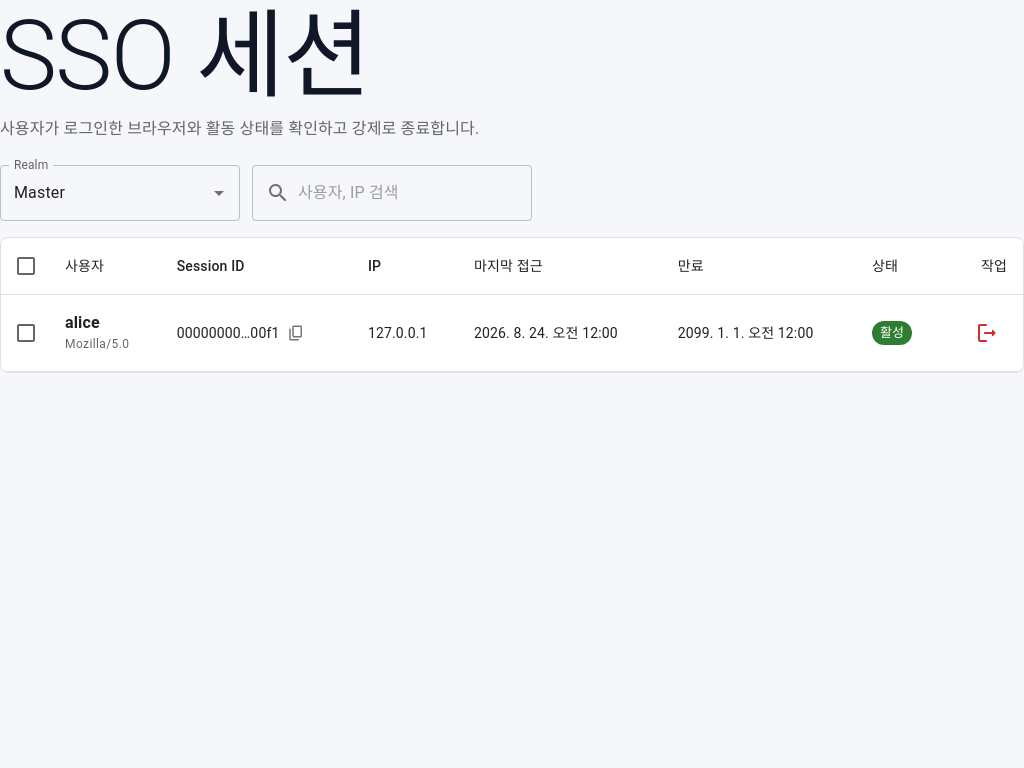
Scenario: a force logout that could not revoke the refresh tokens says so
Click the button named "세션 강제 로그아웃" at coordinates (987, 333), box [967, 313, 1007, 353]
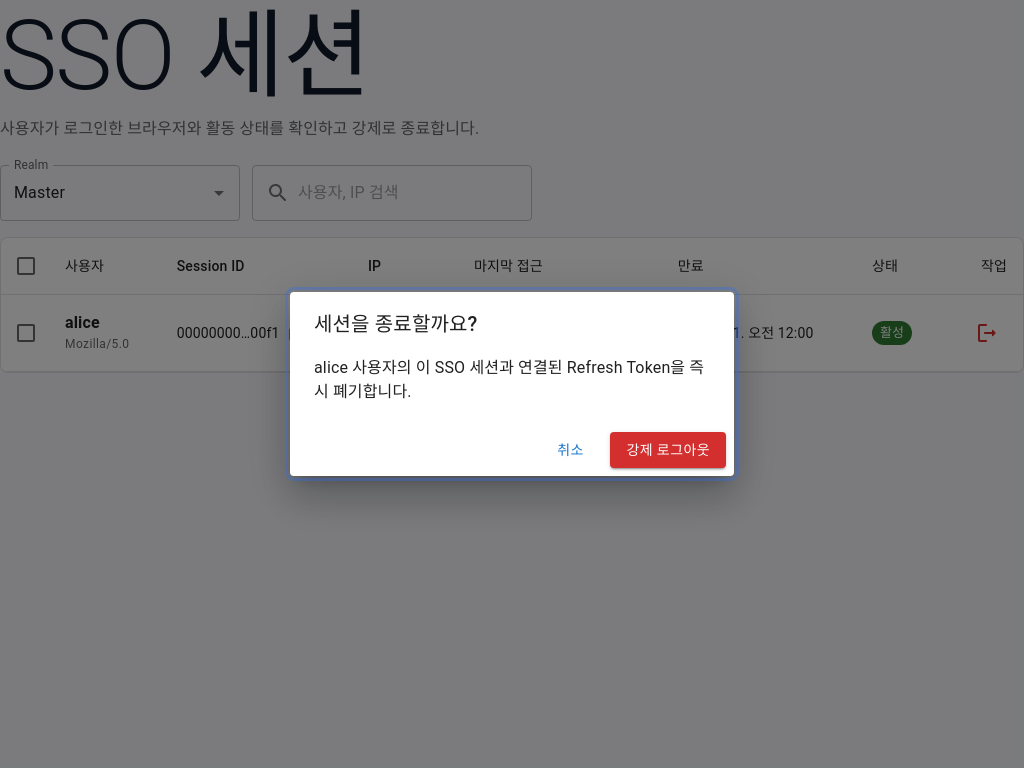
Click the button "강제 로그아웃" at coordinates (668, 450), box [610, 432, 726, 468]
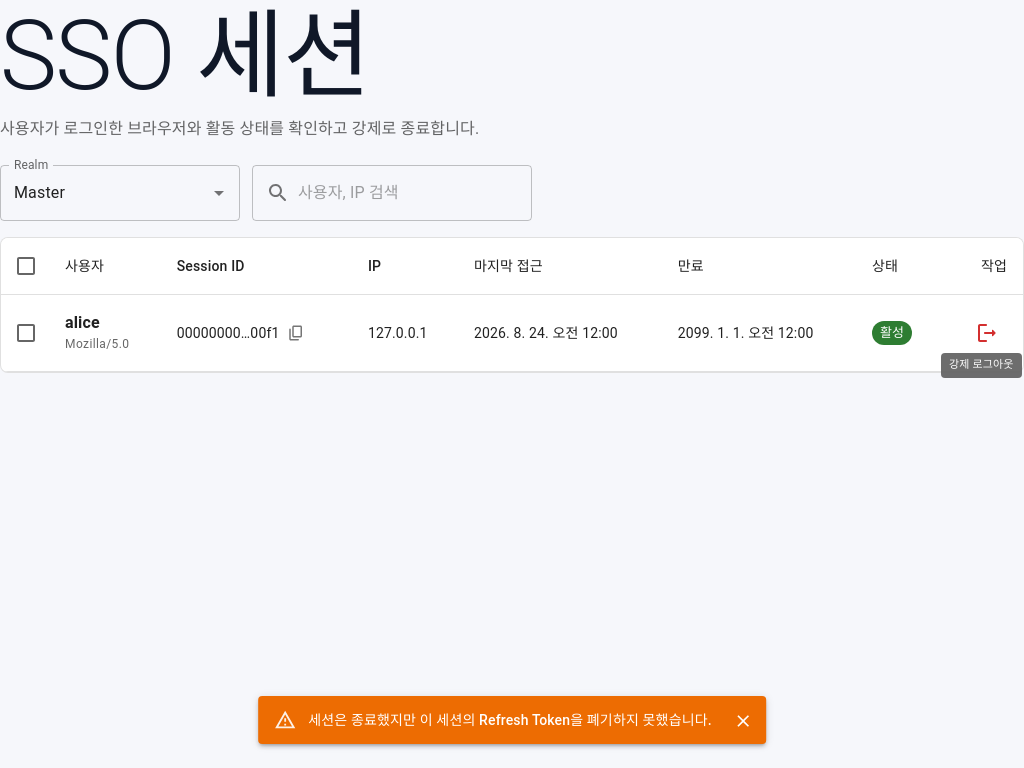
expect the text "세션은 종료했지만 이 세션의 Refresh Token을 폐기하지 못했습니다." is shown: met, box [308, 712, 712, 728]
